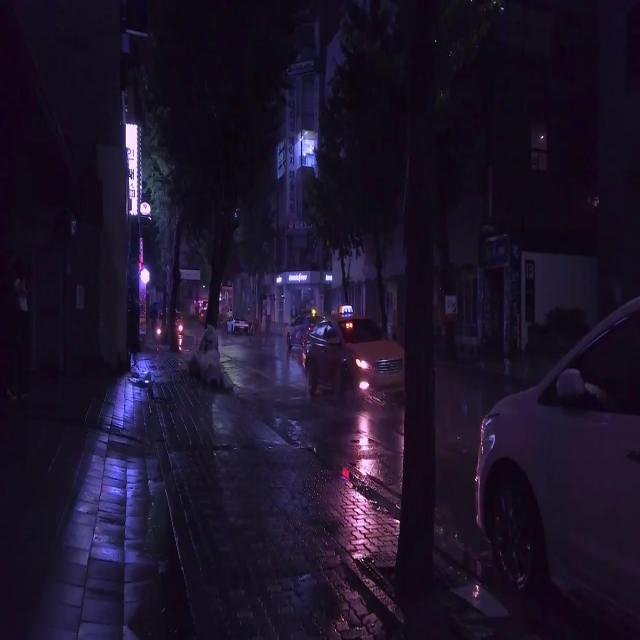Car: (301, 311, 405, 409)
